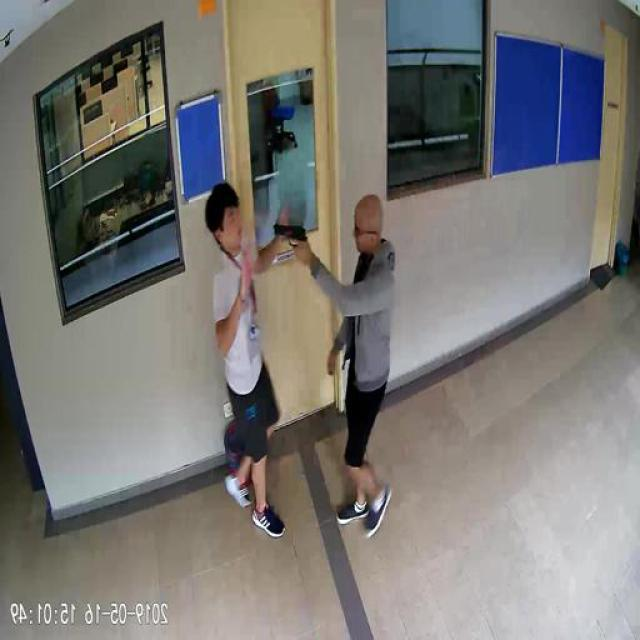Gun: (275, 222, 309, 258)
